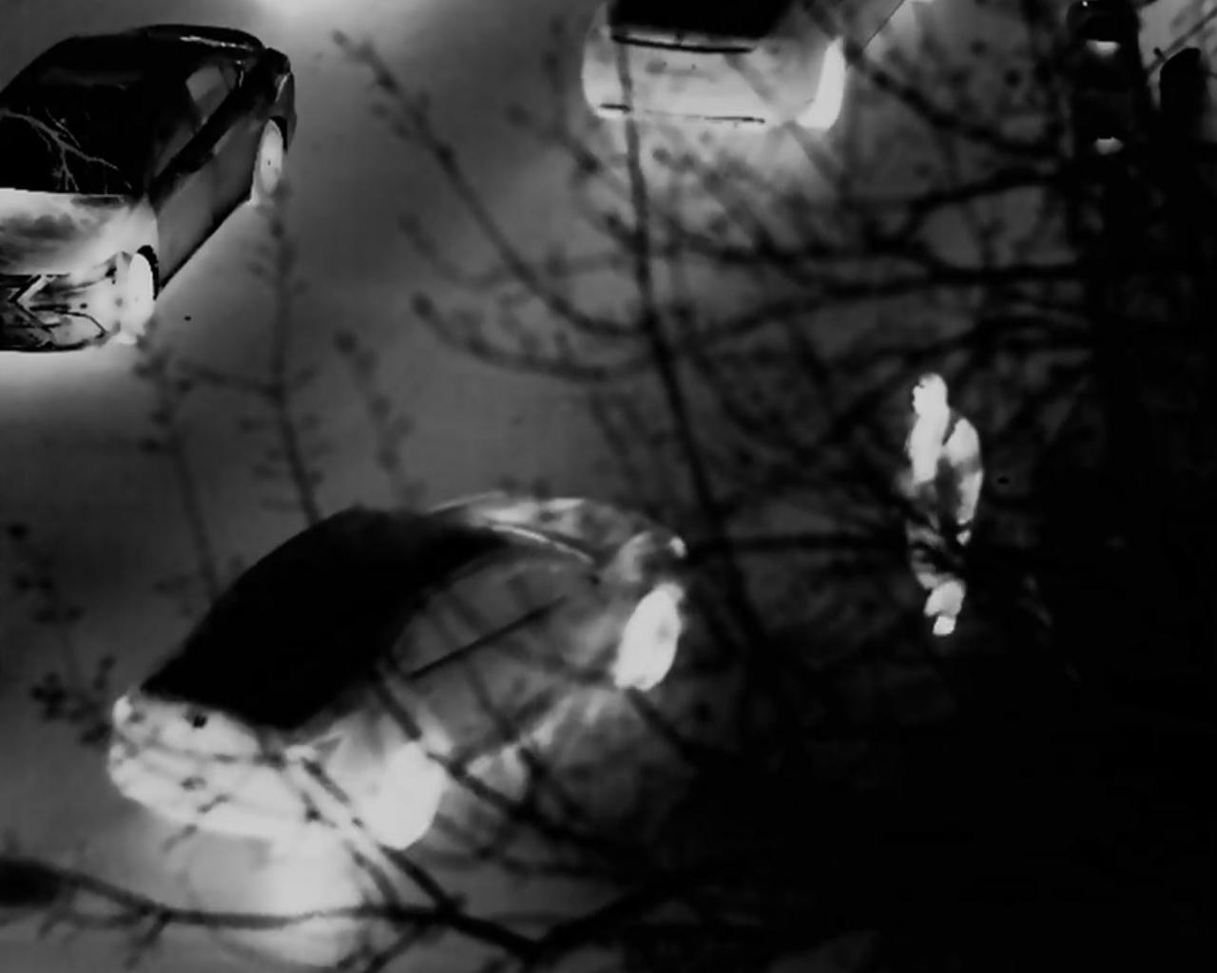person: (896, 366, 979, 628)
